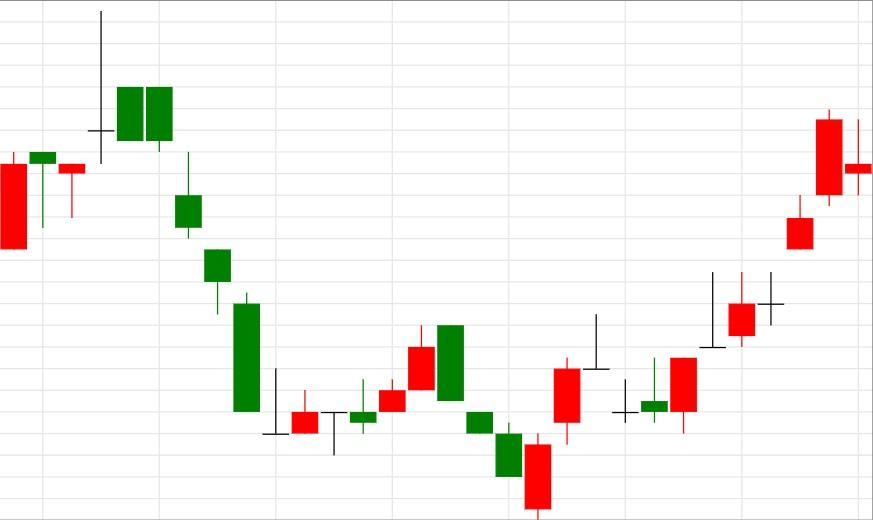three_black_crows_fall: (57, 9, 232, 316), (263, 324, 523, 477)
